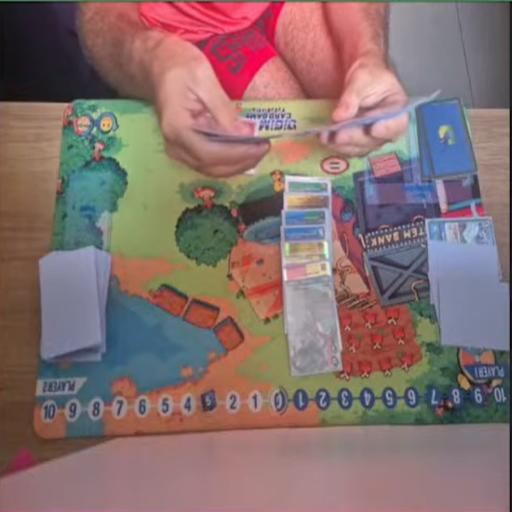card: (284, 282, 342, 380), (281, 260, 331, 285), (283, 243, 333, 262), (280, 209, 331, 227), (280, 192, 333, 209), (285, 176, 333, 194), (281, 227, 331, 242)
